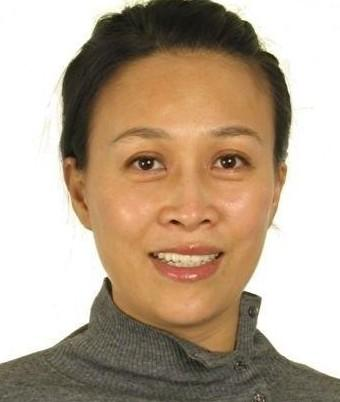unmask: (94, 75, 274, 301)
